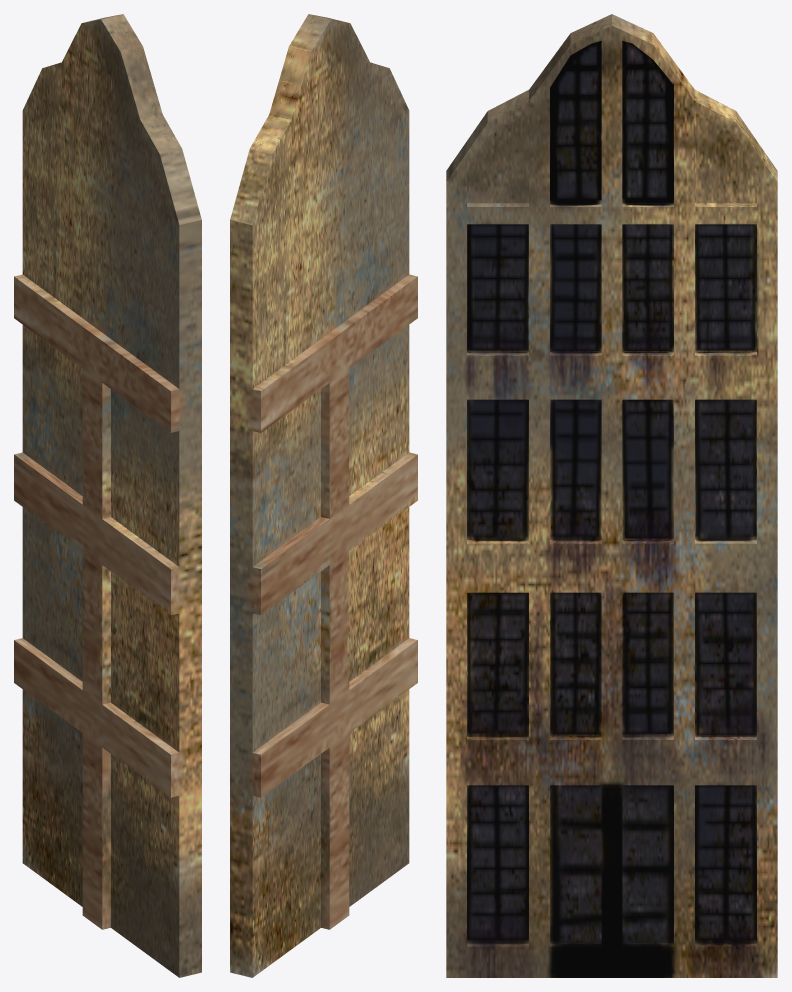
File: building01.fbx
The picture shows the model from 3 angles, left to right: view 1: azimuth 30°, elevation 25°; view 2: azimuth 150°, elevation 25°; view 3: azimuth 270°, elevation 25°; orthographic projection. The views are drawn at different scales.
Visible parts, largest first — view 1: building01; view 2: building01; view 3: building01.
Boxes of the visible parts, <box> form: building01: <box>14,14,201,977</box>; building01: <box>230,14,417,977</box>; building01: <box>446,14,777,977</box>.
Bounding box in the file's own units: 0.8786 × 24.44 × 7.71.
1 material, 1 textured.
